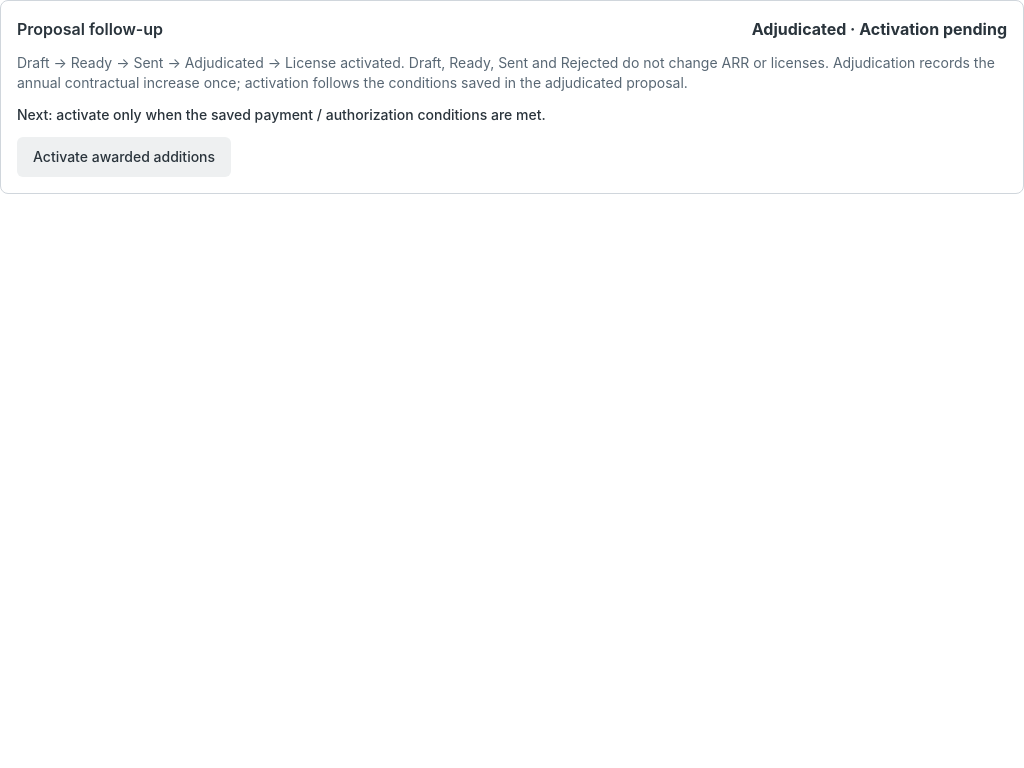
Test case: Addition workflow UI › blocks activation until receipt reference and explicit payment confirmation
Later steps or results of the test are not shown.
Click the button "Activate awarded additions".
click(124, 157)  # box [17,137,231,177]
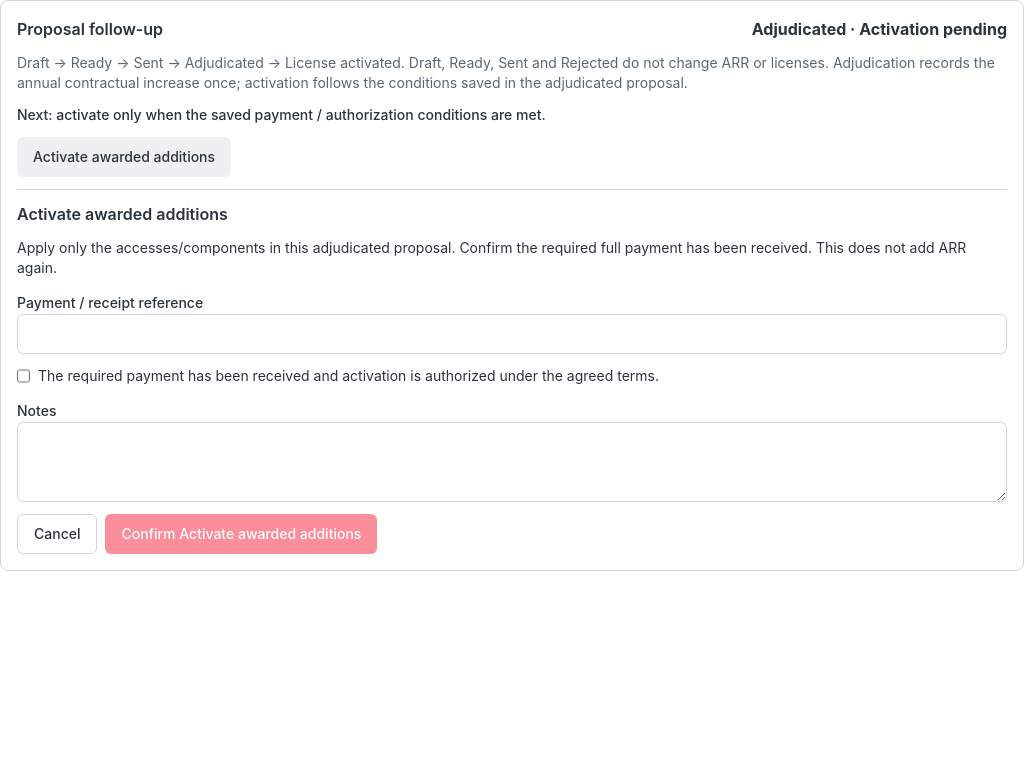
Result: the button "Confirm Activate awarded additions" is disabled at [106,514,377,554]
Type "RECEIPT-1" into the field labelled "Payment / receipt reference".
click(512, 334); type("RECEIPT-1")  # box [17,314,1007,354]
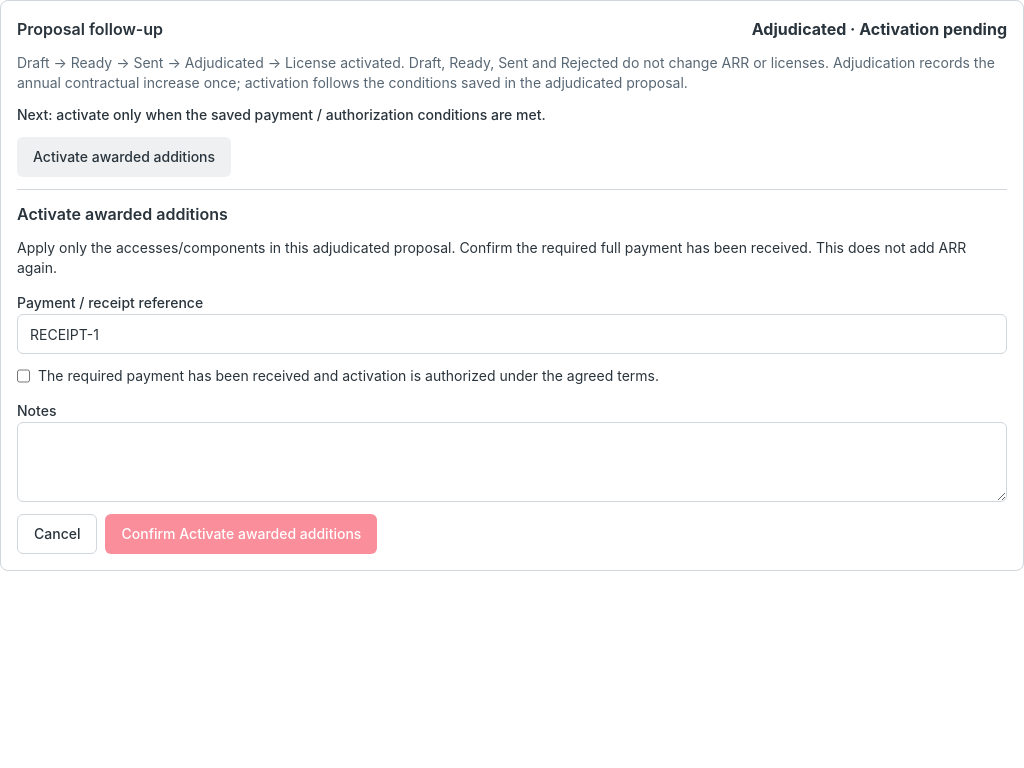
Result: the button "Confirm Activate awarded additions" is disabled at [106,514,377,554]
